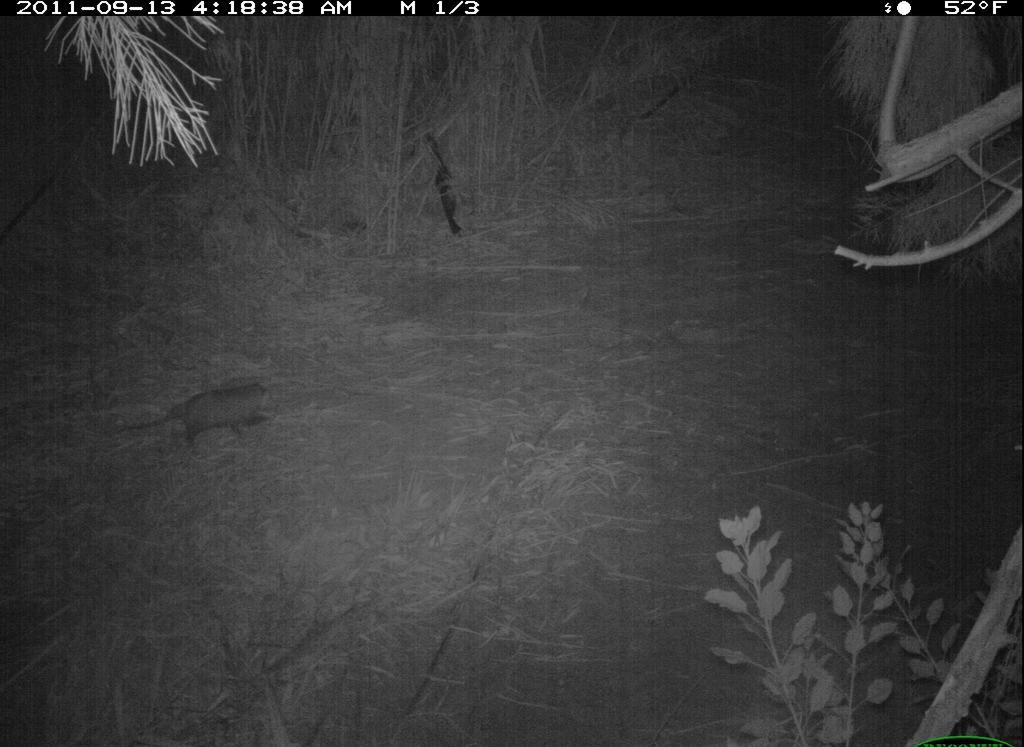opossum: (102, 376, 281, 451)
